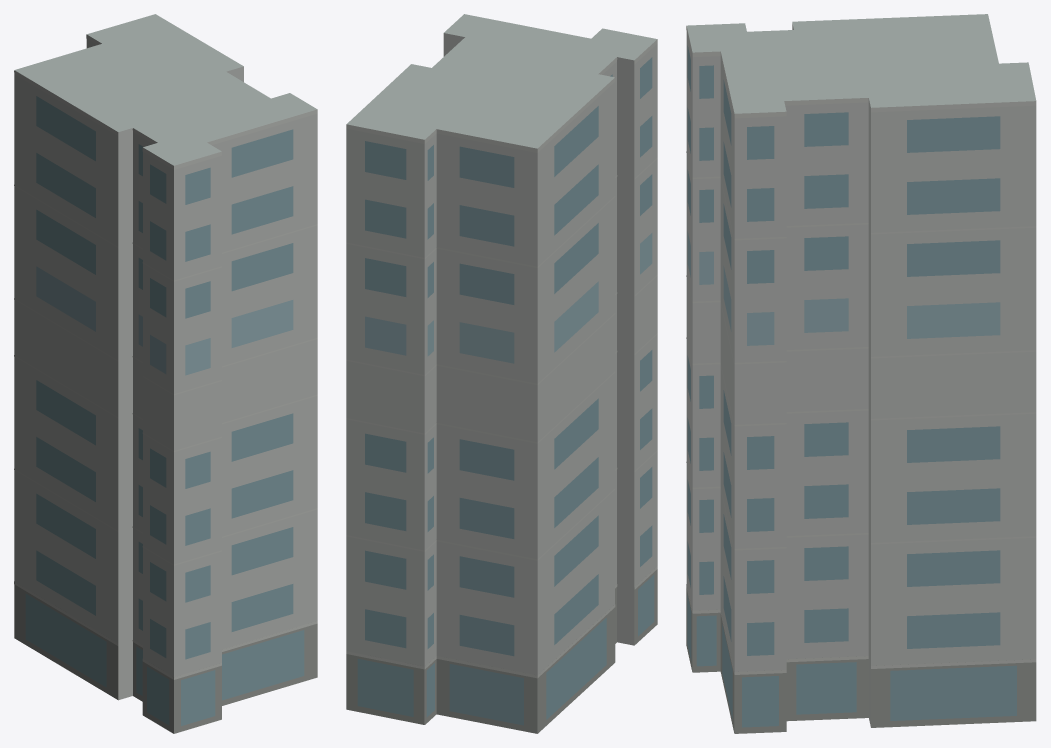
File: survey-upis-32745724.glb
3 views of the same model, side by side, from view 1: azimuth 30°, elevation 25°; view 2: azimuth 150°, elevation 25°; view 3: azimuth 270°, elevation 25° (orthographic). The views are drawn at different scales.
Parts seen in each view (by area): view 1: survey-upis-32745724.tmp; view 2: survey-upis-32745724.tmp; view 3: survey-upis-32745724.tmp.
Part boxes in pixels (box(x1,y1,x2,y2)): survey-upis-32745724.tmp: box(14, 14, 317, 733); survey-upis-32745724.tmp: box(346, 14, 657, 733); survey-upis-32745724.tmp: box(686, 14, 1036, 733).
Bounding box in the file's own units: 11.31 × 32.7 × 16.75.
